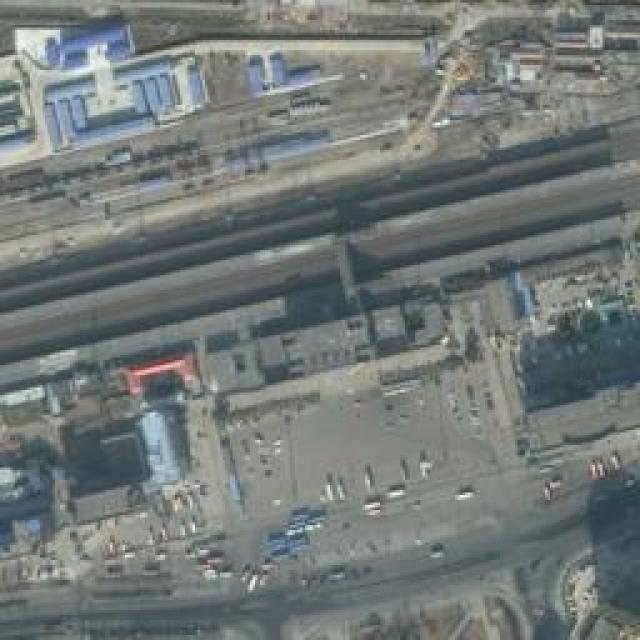Railway: (5, 137, 640, 385)
